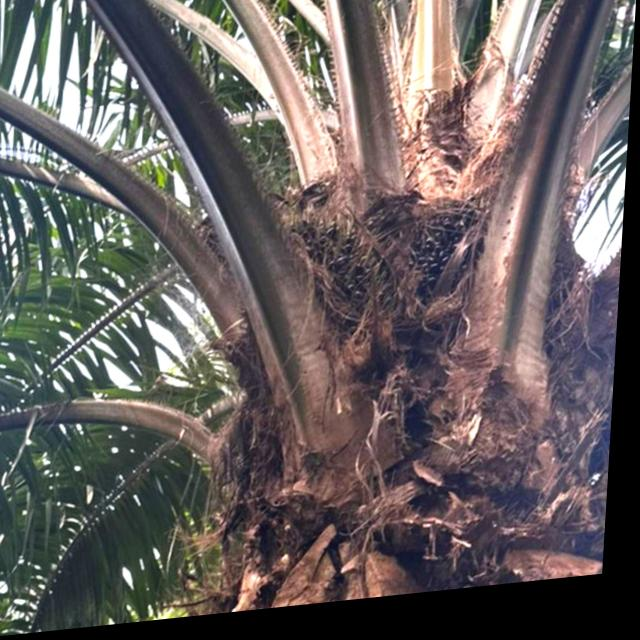unripe: (282, 213, 407, 350), (416, 203, 497, 314)
